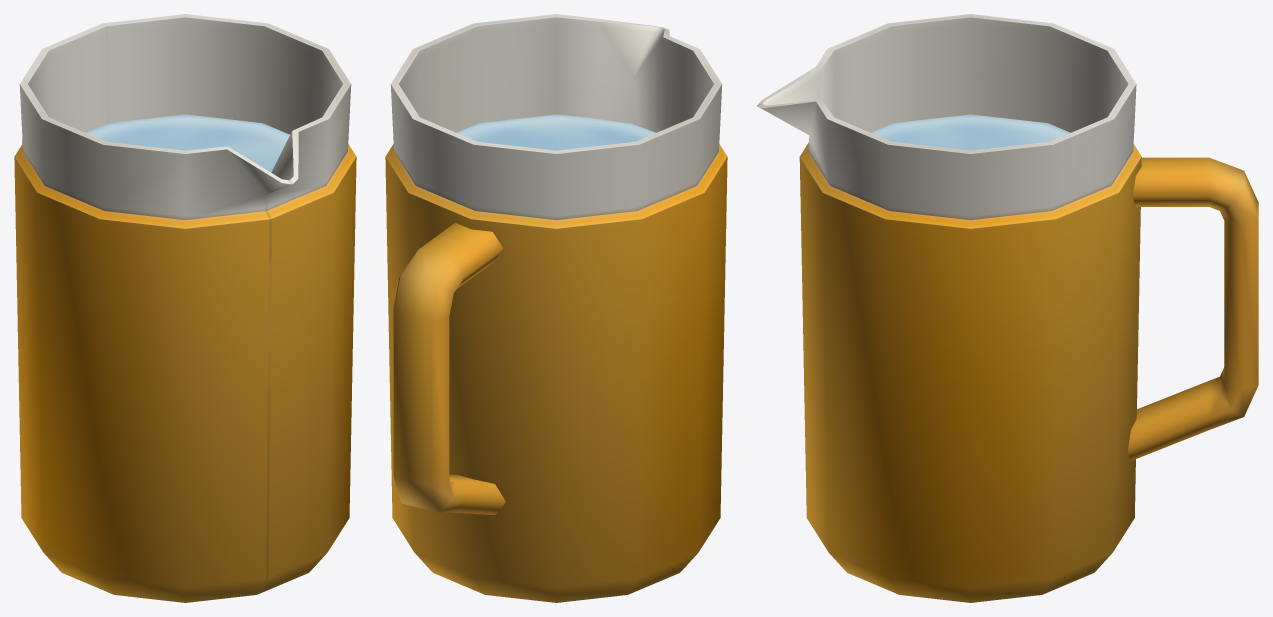
File: jsf_WaterPitcher_01.fbx
3 views of the same model, side by side, from view 1: azimuth 30°, elevation 25°; view 2: azimuth 150°, elevation 25°; view 3: azimuth 270°, elevation 25° (orthographic).
Visible parts, largest first — view 1: jsf_WaterPitcher_01; view 2: jsf_WaterPitcher_01; view 3: jsf_WaterPitcher_01.
Boxes of the visible parts, left/top/right/bottom form: jsf_WaterPitcher_01: left=14, top=14, right=356, bottom=602; jsf_WaterPitcher_01: left=385, top=14, right=727, bottom=602; jsf_WaterPitcher_01: left=757, top=14, right=1258, bottom=602.
Size of the model in its own units: 18.87 by 27.9 by 27.68.
